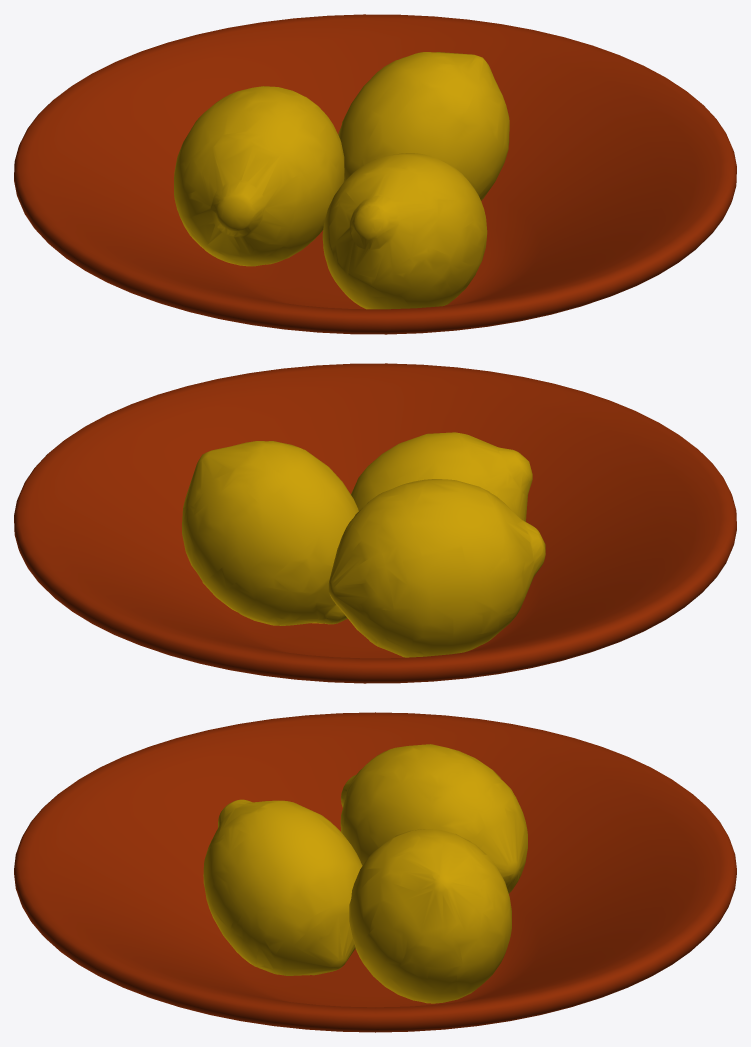
Rendered from platoLimas.fbx.
The picture shows the model from 3 angles, top to bottom: view 1: azimuth 30°, elevation 25°; view 2: azimuth 150°, elevation 25°; view 3: azimuth 270°, elevation 25°; orthographic projection.
Visible parts, largest first — view 1: platoLimas; view 2: platoLimas; view 3: platoLimas.
Part boxes in pixels (<box>): platoLimas: <box>14,14,736,334</box>; platoLimas: <box>14,363,736,683</box>; platoLimas: <box>14,712,736,1032</box>.
Bounding box in the file's own units: 59.59 × 16.53 × 59.59.
